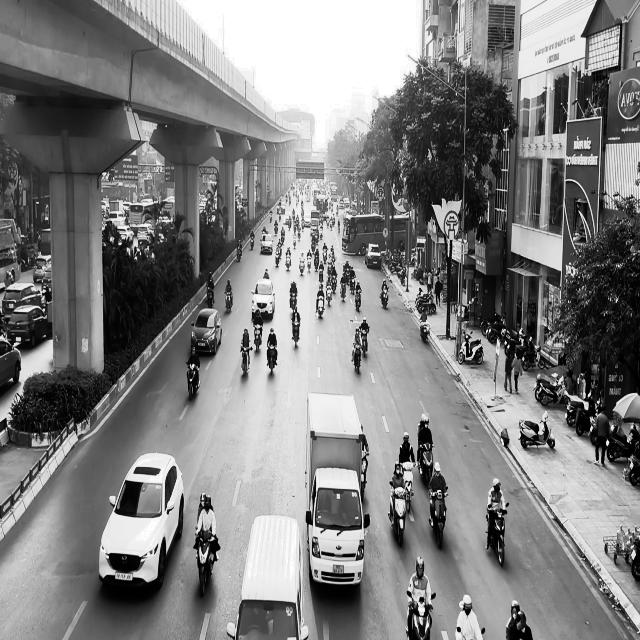car: (98, 452, 185, 590), (226, 514, 309, 640), (306, 467, 370, 588), (191, 308, 222, 356), (0, 335, 22, 387), (251, 278, 276, 320), (365, 243, 382, 268)
motorbike: (388, 479, 414, 547), (194, 530, 218, 597), (486, 502, 510, 566), (406, 592, 436, 639), (519, 410, 555, 449), (429, 488, 449, 548), (458, 329, 484, 364), (420, 442, 435, 487), (187, 362, 200, 399), (361, 451, 369, 502), (241, 344, 252, 376), (352, 342, 363, 374), (267, 344, 278, 374), (254, 322, 264, 352), (360, 328, 370, 356), (419, 318, 430, 342), (292, 318, 300, 347), (316, 293, 325, 317), (225, 288, 233, 314), (380, 286, 389, 309), (207, 284, 215, 308), (355, 288, 362, 311)
